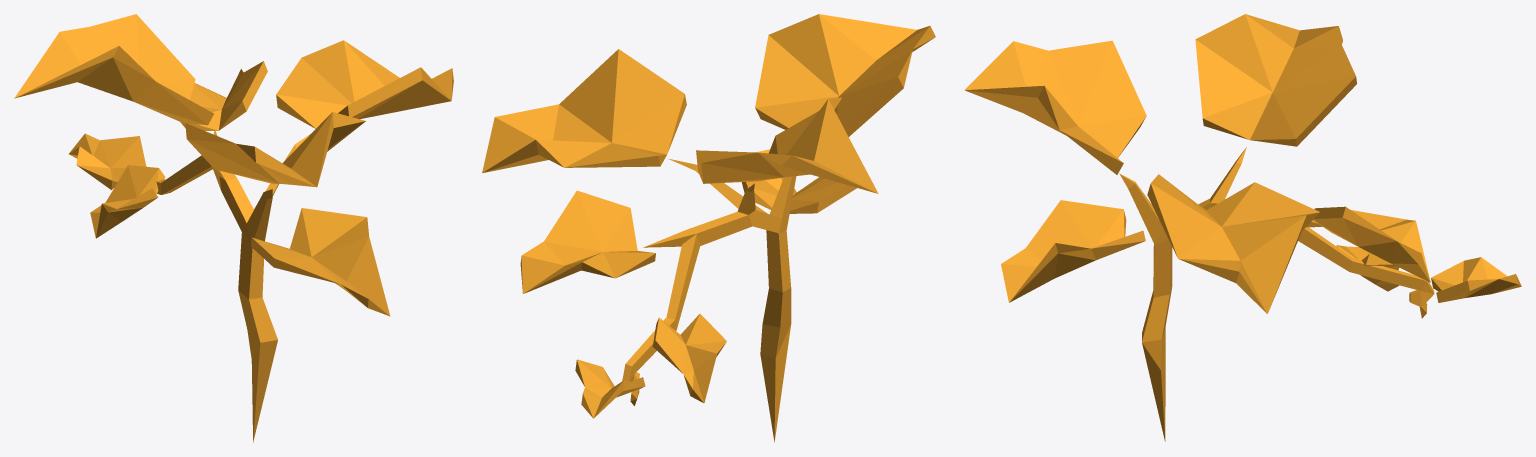
The model's file is SM_Pumpkin_Seedling_A.fbx.
3 views of the same model, side by side, from view 1: azimuth 30°, elevation 25°; view 2: azimuth 150°, elevation 25°; view 3: azimuth 270°, elevation 25° (orthographic). The views are drawn at different scales.
Visible parts, largest first — view 1: pumpkin-seedling-a; view 2: pumpkin-seedling-a; view 3: pumpkin-seedling-a.
Boxes of the visible parts, x1,y1,x2,y2 form: pumpkin-seedling-a: (14, 14, 453, 442); pumpkin-seedling-a: (482, 14, 935, 442); pumpkin-seedling-a: (964, 14, 1521, 441).
Bounding box in the file's own units: 0.4456 × 0.4077 × 0.5366.
